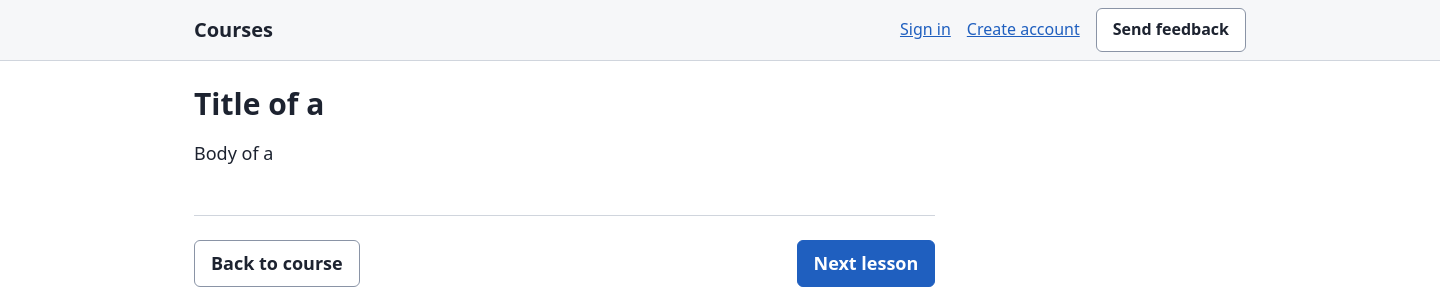
Scenario: moving between lessons › scrolls to the top and focuses the same h1 element when Next is clicked
The image size is (1440, 304).
Expected: the text "Body of a" is shown, [194,140,273,164]
What coordinates should you click on to do the following:
click the link "Next lesson"
I would click on:
 (866, 264)
Its box is [796,240,935,287].
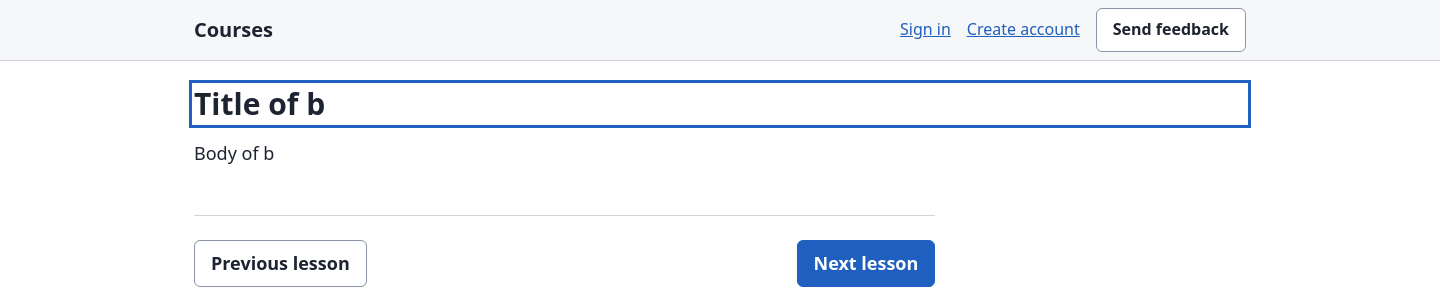
Now the text "Body of b" is shown, box [194,140,274,164]
Now the heading reads "Title of b", box [194,83,325,124]
